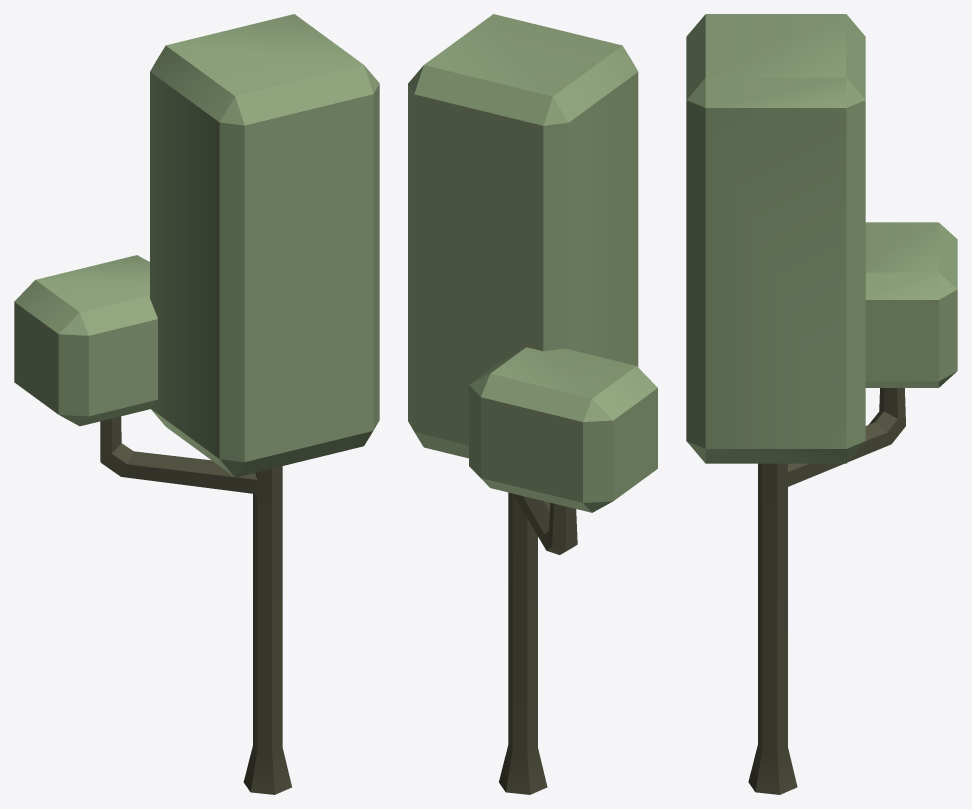
File: Tree4.fbx
The picture shows the model from 3 angles, left to right: view 1: azimuth 30°, elevation 25°; view 2: azimuth 150°, elevation 25°; view 3: azimuth 270°, elevation 25°; orthographic projection.
Visible parts, largest first — view 1: Tree4Canopy1, Tree4Canopy2, Tree4Trunk; view 2: Tree4Canopy1, Tree4Canopy2, Tree4Trunk; view 3: Tree4Canopy1, Tree4Canopy2, Tree4Trunk.
Part boxes in pixels (x1,y1,x2,y2): Tree4Canopy1: (150, 14, 379, 477); Tree4Canopy2: (14, 255, 157, 426); Tree4Trunk: (100, 416, 291, 794); Tree4Canopy1: (408, 14, 638, 458); Tree4Canopy2: (469, 347, 657, 512); Tree4Trunk: (499, 492, 577, 794); Tree4Canopy1: (686, 14, 865, 463); Tree4Canopy2: (865, 222, 957, 387); Tree4Trunk: (748, 388, 905, 794).
Size of the model in its own units: 2.58 by 7.17 by 2.39.
